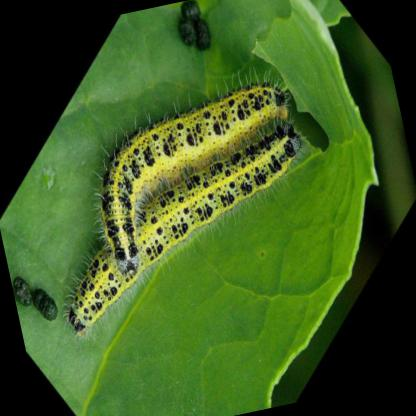pieris: (68, 128, 303, 338), (102, 72, 297, 274)
